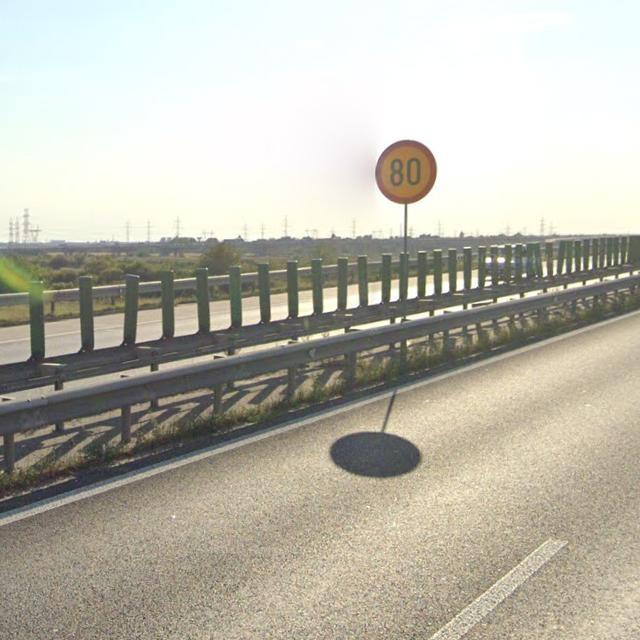forb_speed_over_80: (376, 140, 437, 204)
